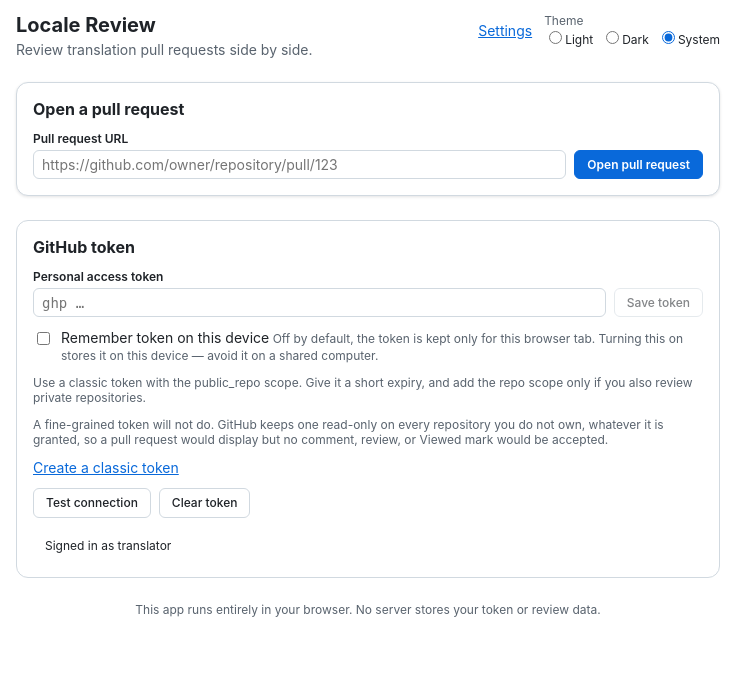
it: token panel › answers the Test connection button with an explicit result
Expected: the text "Signed in as translator" is shown, [45,538,171,553]
Expected: the text "connection verified" is not shown
What coordinates should you click on to do the following:
click the button "Test connection"
I would click on:
 (92, 503)
Its box is [33,488,151,518].
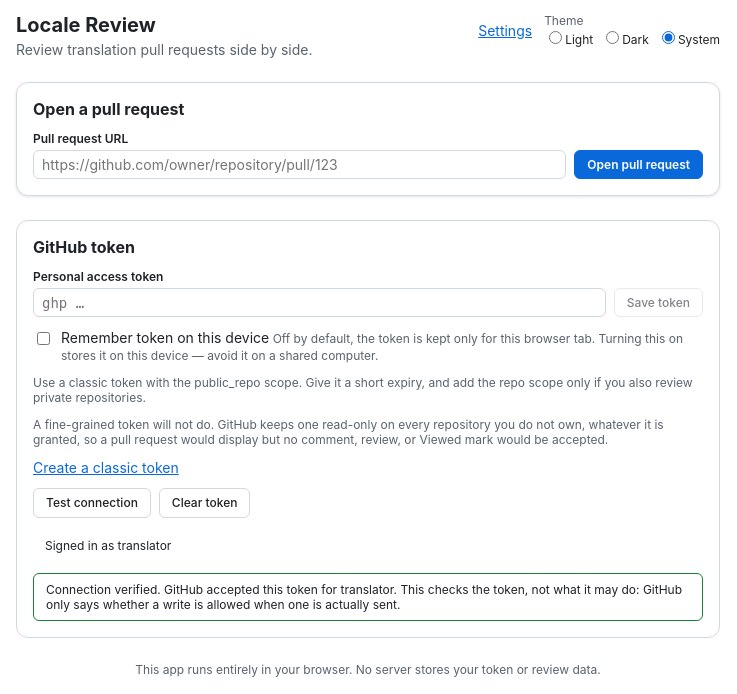
Expected: the text "Connection verified" shows "translator", [340,582,394,597]
